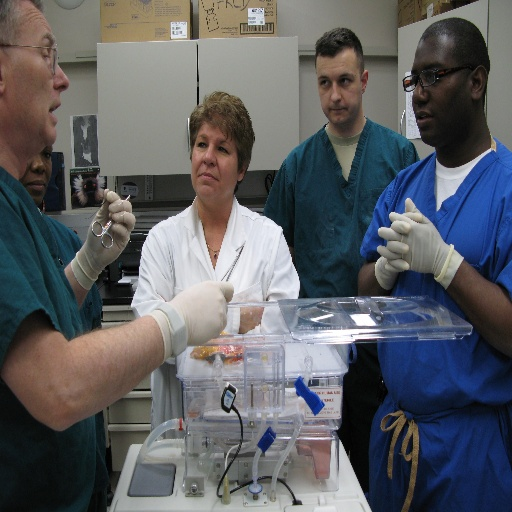hand: (70, 180, 135, 280), (376, 196, 447, 276), (170, 279, 235, 348), (383, 210, 421, 276), (240, 297, 264, 336)
